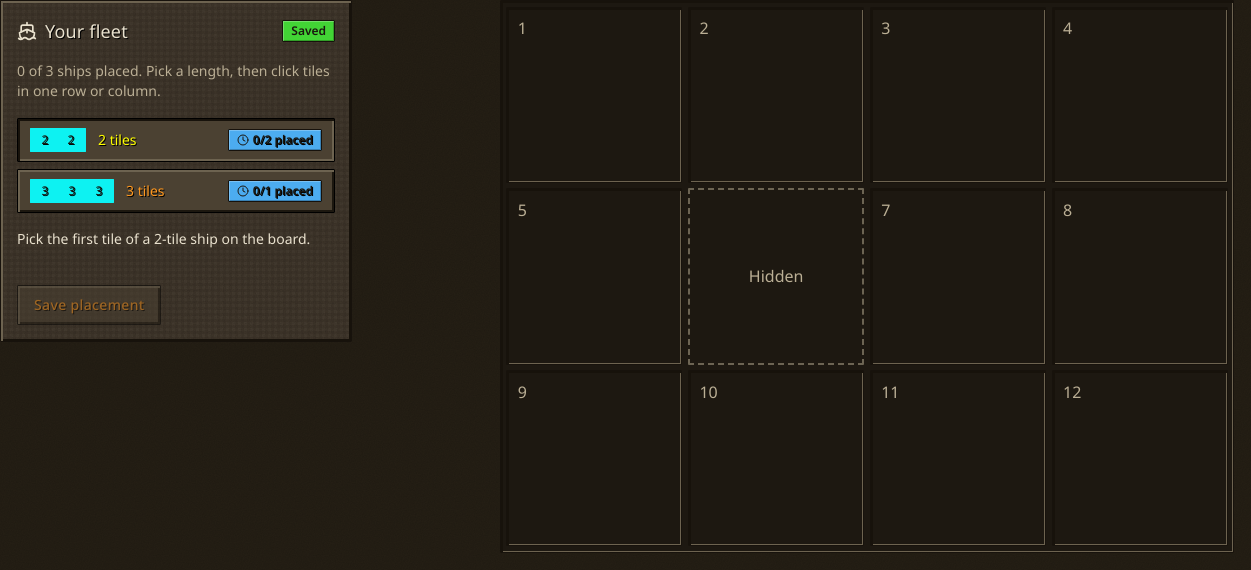
Test: fleet palette › counts placed ships per length and completes a length
The image size is (1251, 570).
Click the cell named "Tile 1,". click: click(594, 95)
box: [506,7,682,183]
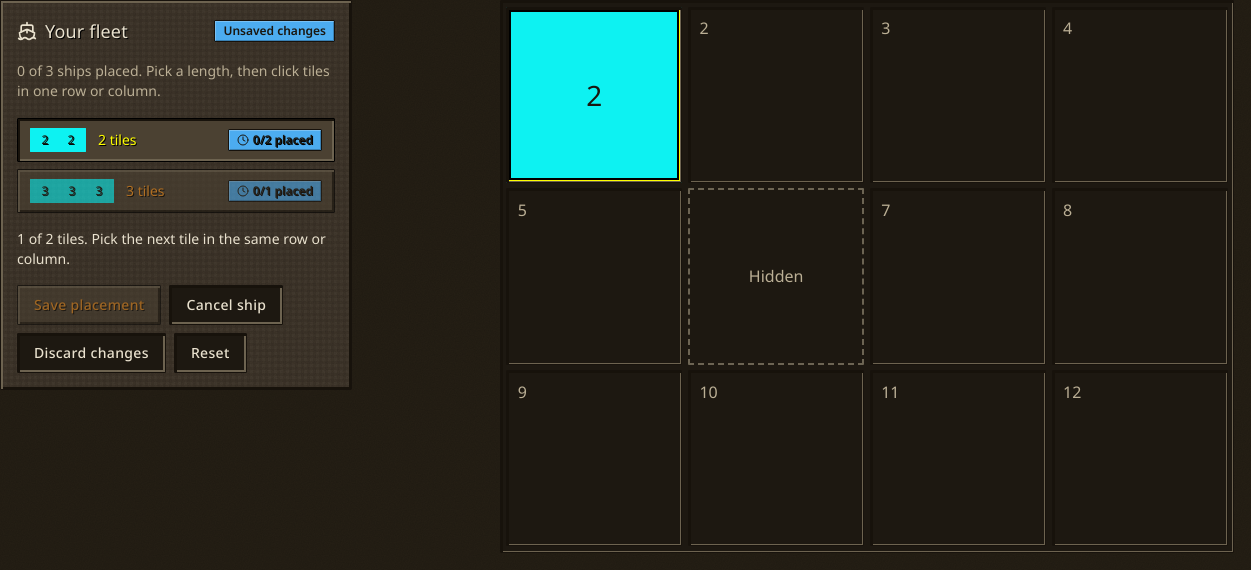
Click the cell named "Tile 2,". click: click(776, 95)
box: [688,7,864,183]
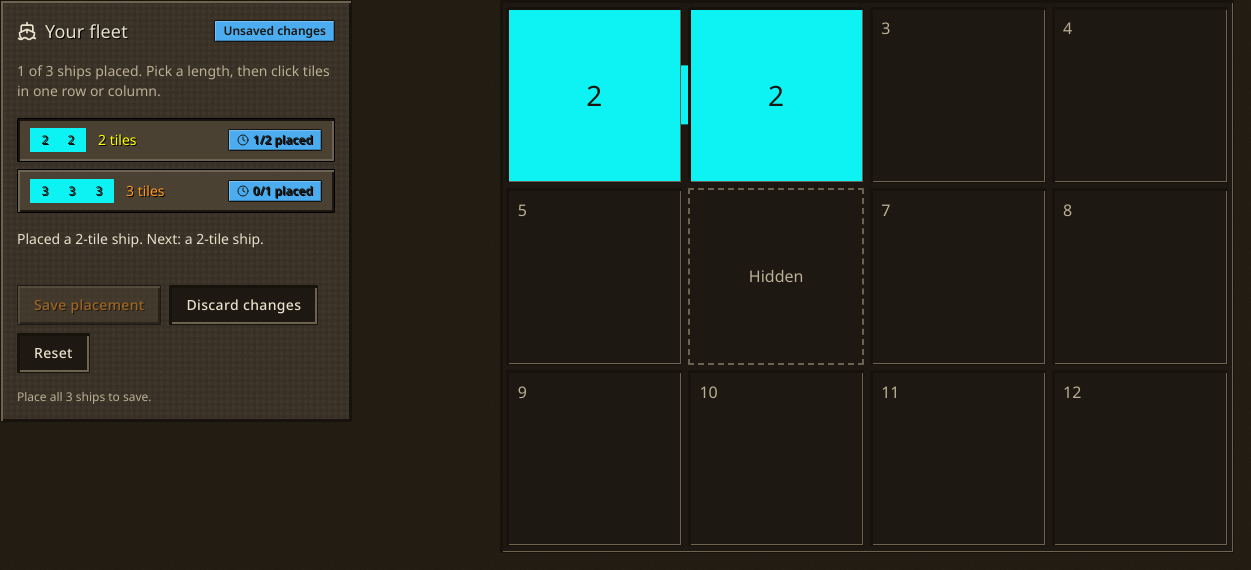
Expected: the radio button labelled "2 2 2 tiles 1/2 placed" is checked, [17,118,335,162]
Click the cell named "Tile 9,". click: click(594, 458)
box: [506,370,682,546]
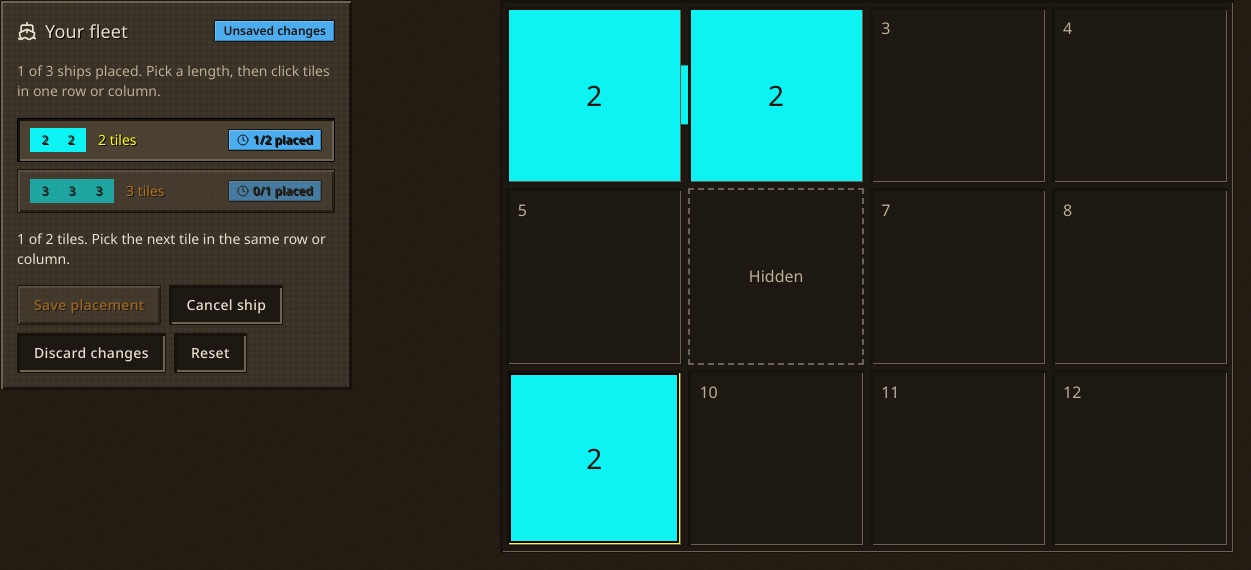
Click the cell named "Tile 10,". click: click(776, 458)
box: [688,370,864,546]
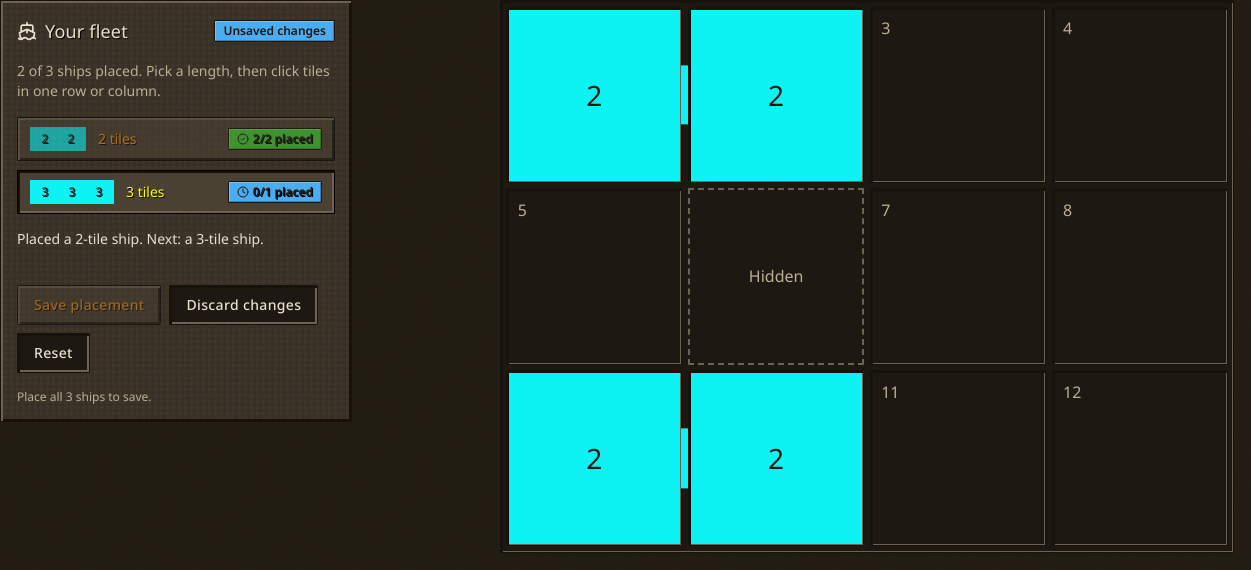
Result: the radio button labelled "2 2 2 tiles 2/2 placed" is disabled at [17,117,335,161]
Result: the radio button labelled "3 3 3 3 tiles 0/1 placed" is checked at [17,170,335,214]
